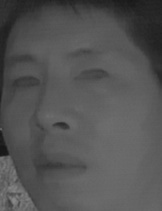eye: (73, 65, 113, 87), (10, 71, 43, 92)
mouth: (29, 148, 88, 181)
